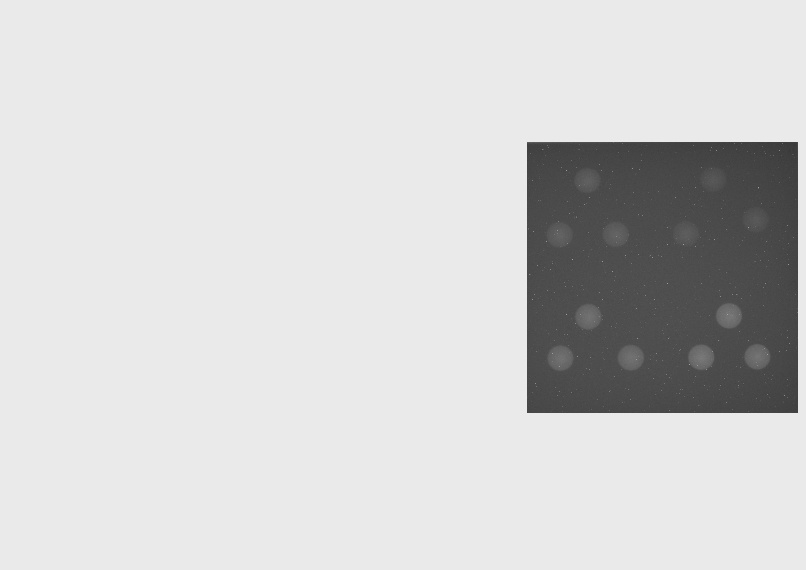cluster: (671, 163, 770, 248), (544, 166, 630, 249), (546, 302, 646, 373), (686, 301, 772, 371)
